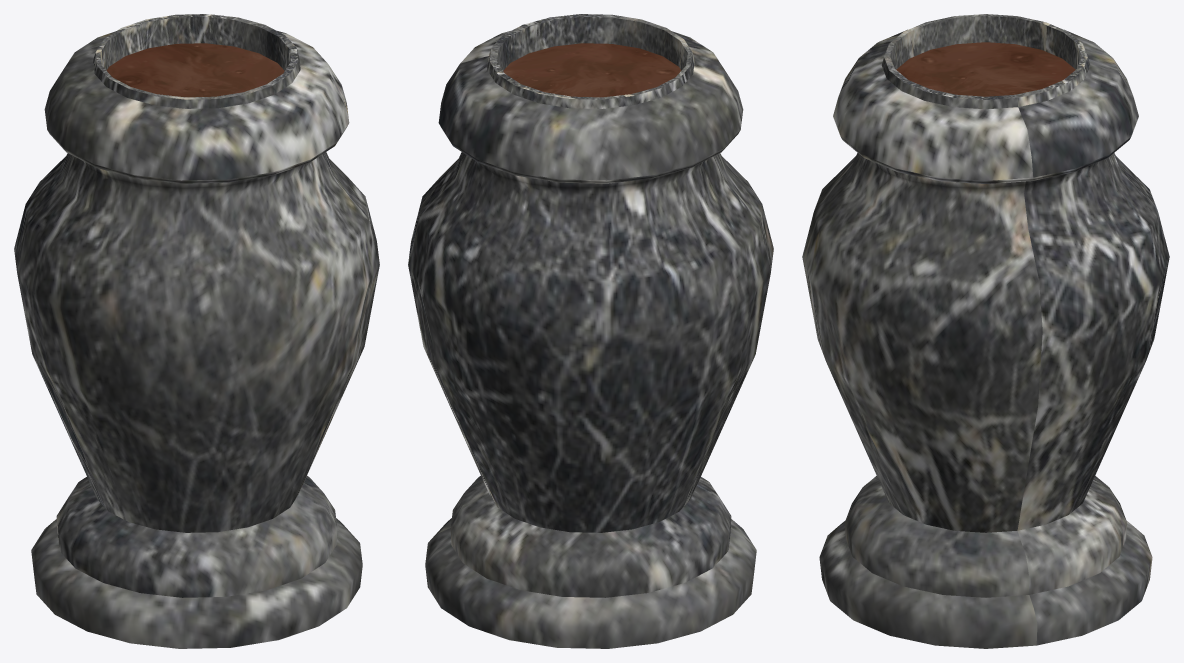
Rendered from MomvaseV2.fbx.
3 views of the same model, side by side, from view 1: azimuth 30°, elevation 25°; view 2: azimuth 150°, elevation 25°; view 3: azimuth 270°, elevation 25° (orthographic).
Parts seen in each view (by area): view 1: polySurface1, polySurface2; view 2: polySurface1, polySurface2; view 3: polySurface1, polySurface2.
Part boxes in pixels (box(x1,y1,x2,y2)): polySurface1: box(14, 14, 379, 648); polySurface2: box(106, 43, 284, 97); polySurface1: box(408, 14, 773, 648); polySurface2: box(503, 43, 681, 97); polySurface1: box(802, 14, 1169, 648); polySurface2: box(896, 42, 1075, 96).
Bounding box in the file's own units: 2.43 × 3.82 × 2.43.
2 materials, 2 textured.
